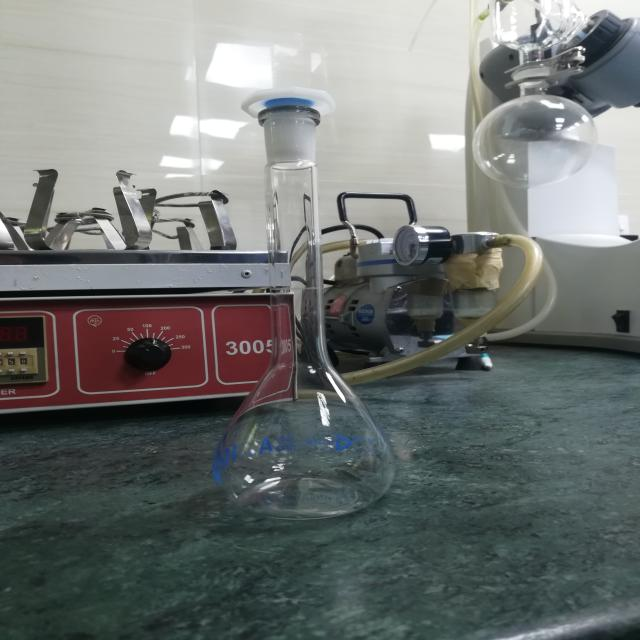Volumetric_Flask: (198, 60, 446, 537)
